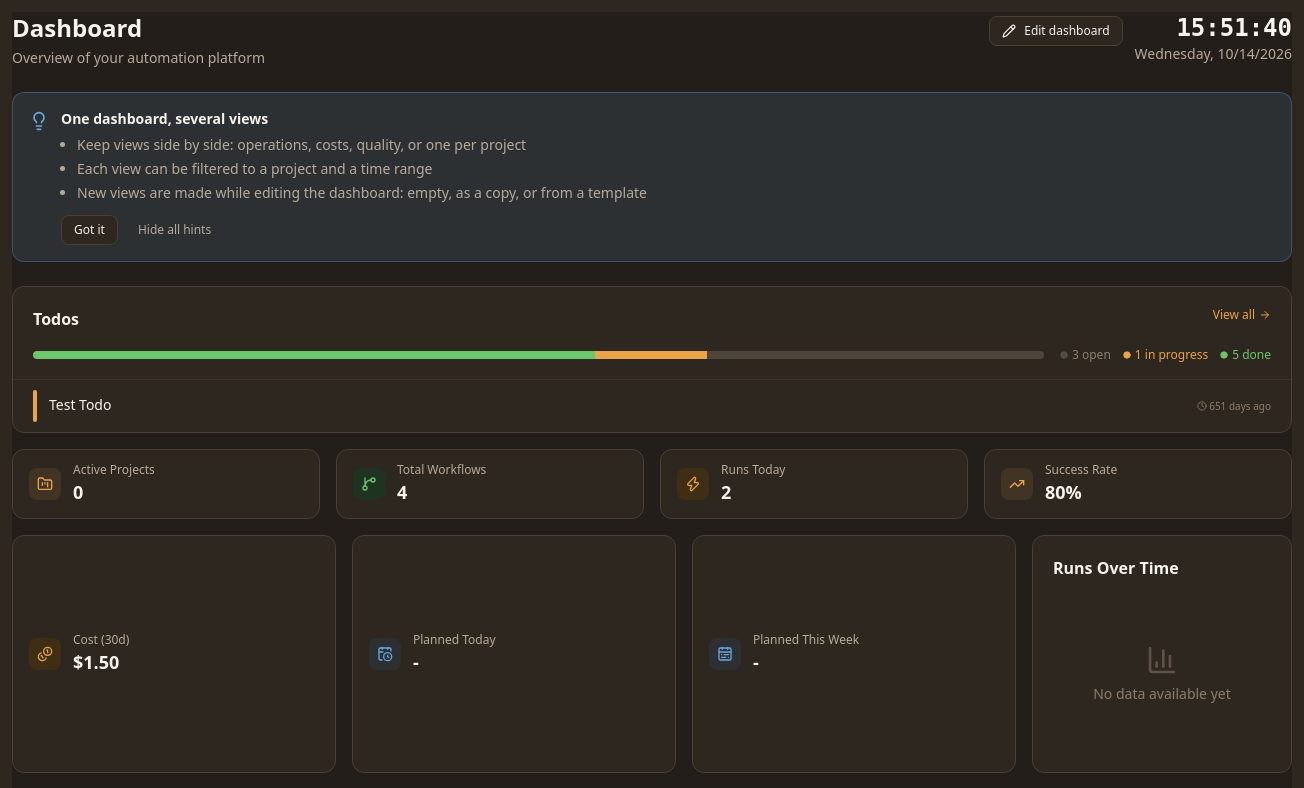
Test case: Dashboard layout › resets a customized layout to the default
Click the button "Edit dashboard".
click(1056, 31)  # box [989, 16, 1123, 46]
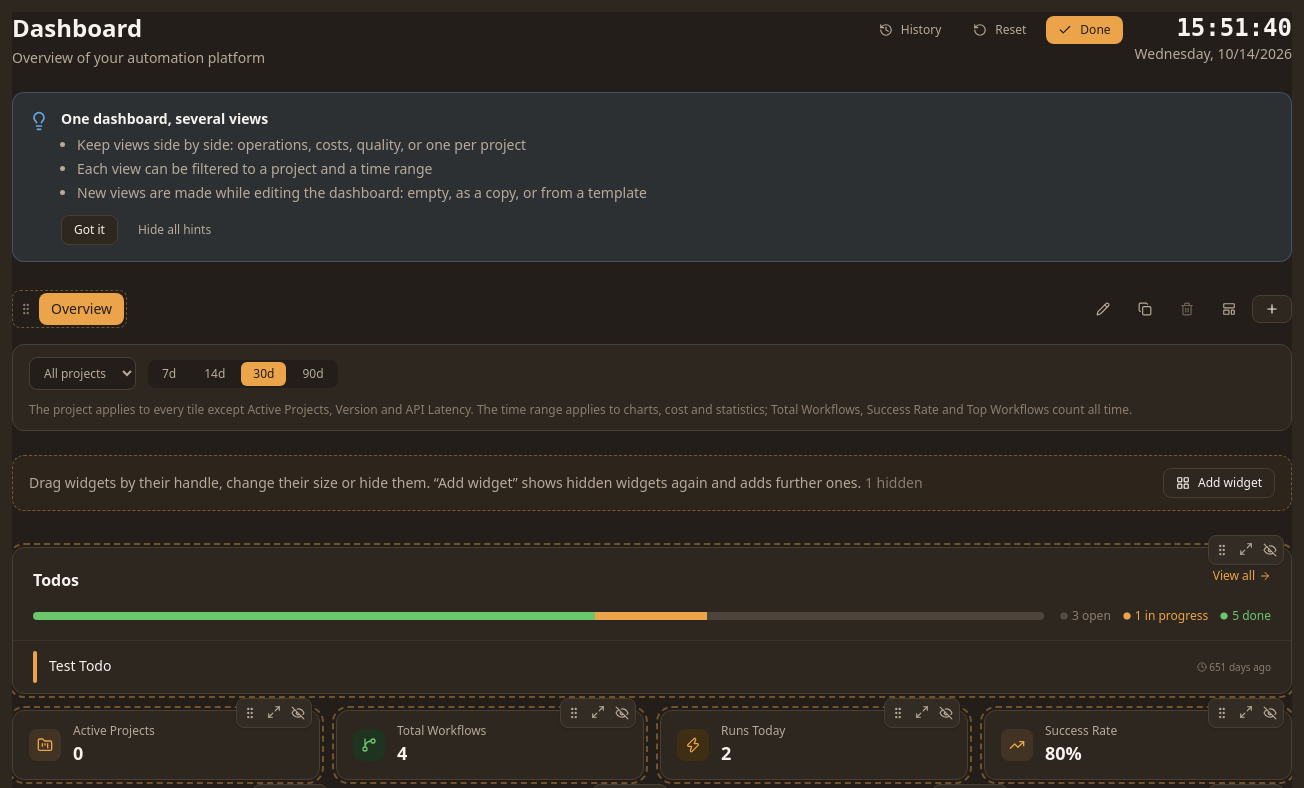
Click the button "Reset".
click(1000, 30)  # box [961, 16, 1038, 44]
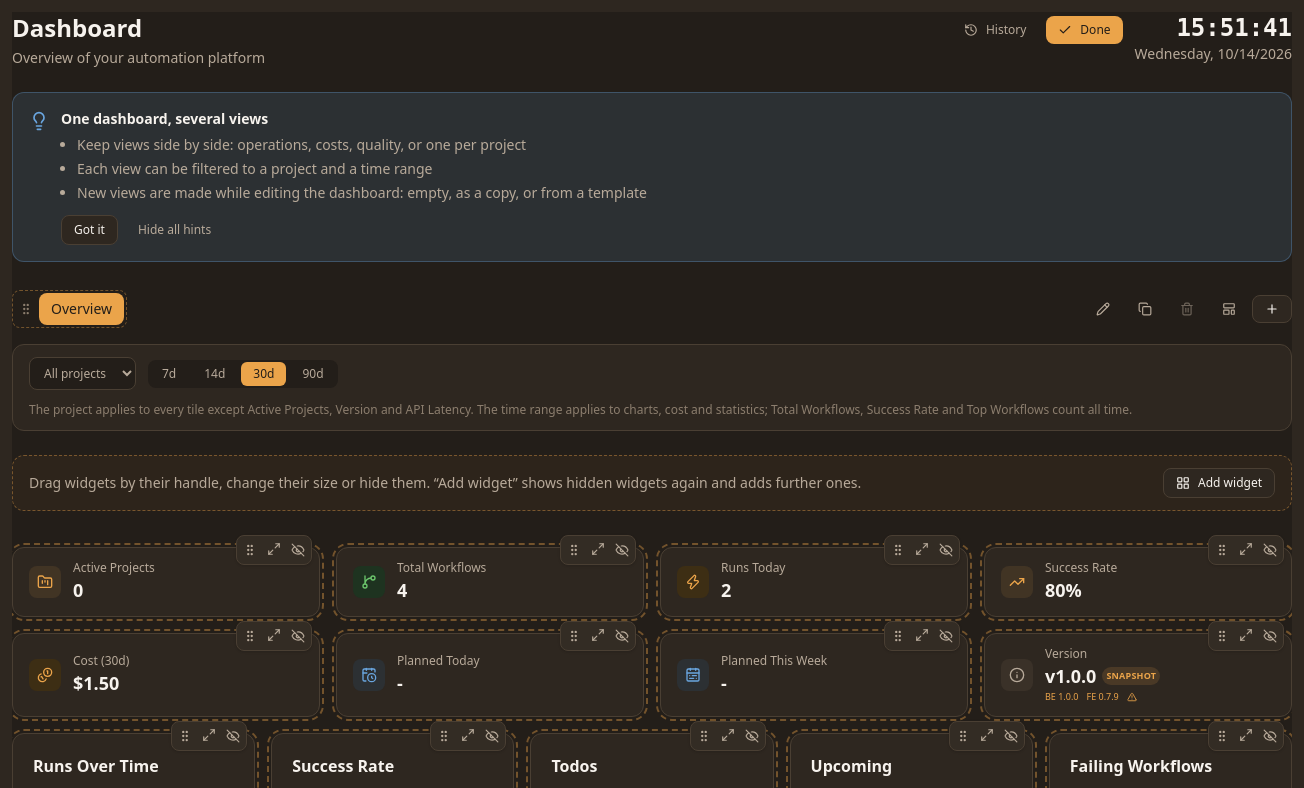
Expected: the button "Reset" is gone
